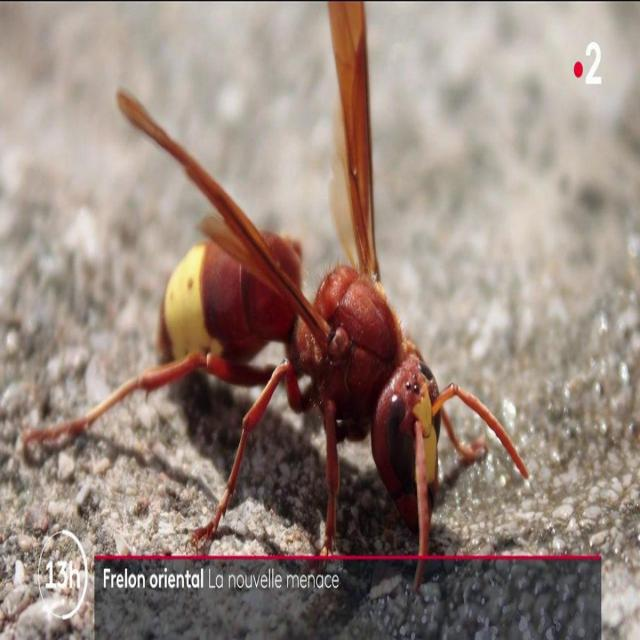Vespa Orientalis: (12, 0, 542, 597)
